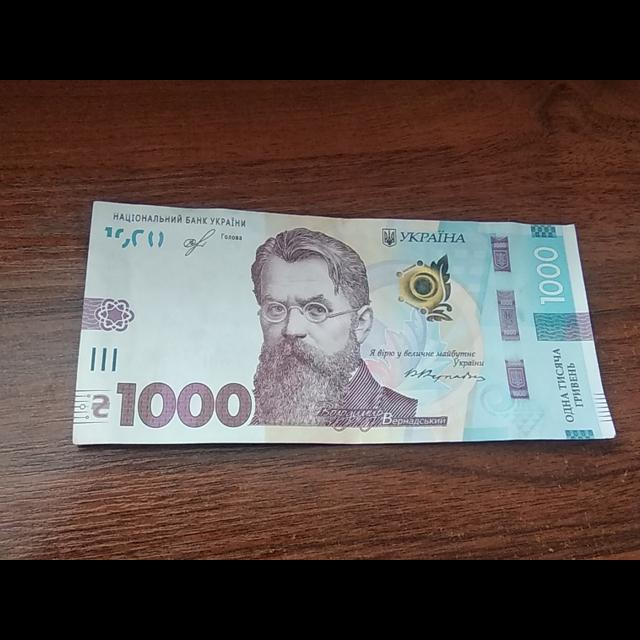1000uah: (72, 201, 618, 444)
